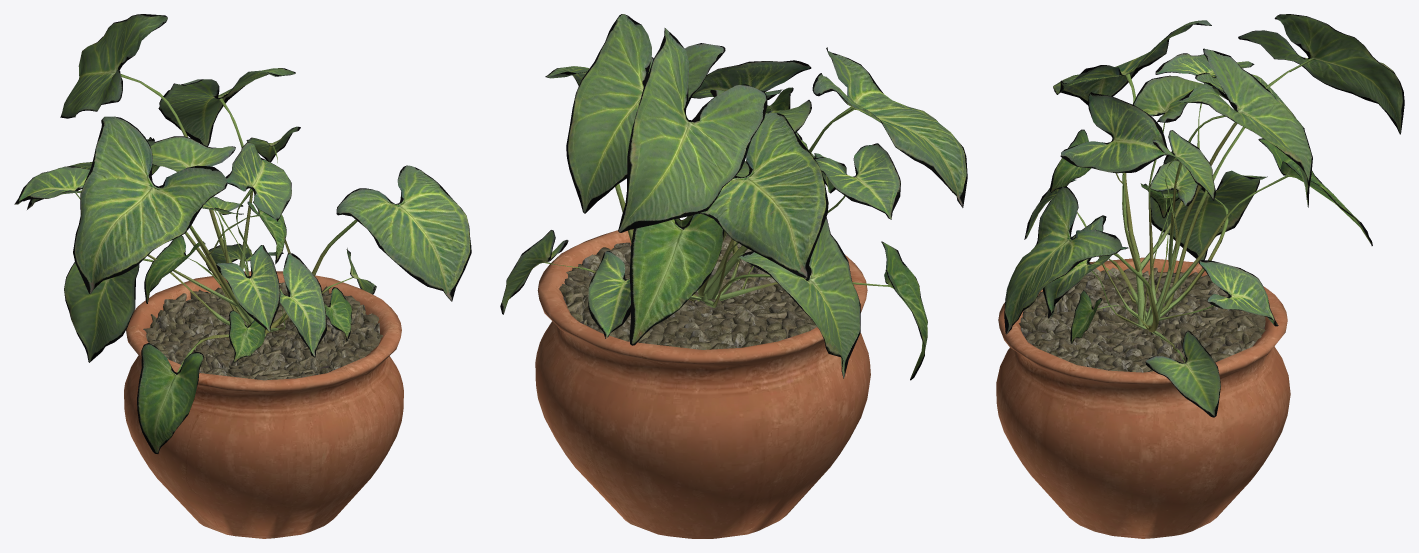
Rendered from prop-plant2-d28c0624.glb.
3 views of the same model, side by side, from view 1: azimuth 30°, elevation 25°; view 2: azimuth 150°, elevation 25°; view 3: azimuth 270°, elevation 25° (orthographic). The views are drawn at different scales.
Parts seen in each view (by area): view 1: potted_plant_02_leaves, potted_plant_02_pot, potted_plant_02_dirt; view 2: potted_plant_02_leaves, potted_plant_02_pot, potted_plant_02_dirt; view 3: potted_plant_02_leaves, potted_plant_02_pot, potted_plant_02_dirt.
Boxes of the visible parts, x1=… form: potted_plant_02_leaves: x1=14, y1=14, x2=471, y2=453; potted_plant_02_pot: x1=124, y1=271, x2=403, y2=538; potted_plant_02_dirt: x1=143, y1=282, x2=382, y2=380; potted_plant_02_leaves: x1=500, y1=14, x2=967, y2=380; potted_plant_02_pot: x1=535, y1=220, x2=870, y2=538; potted_plant_02_dirt: x1=559, y1=233, x2=816, y2=349; potted_plant_02_leaves: x1=1004, y1=14, x2=1404, y2=417; potted_plant_02_pot: x1=996, y1=257, x2=1290, y2=538; potted_plant_02_dirt: x1=1019, y1=267, x2=1265, y2=372.
Size of the model in its own units: 0.7009 by 0.8412 by 0.6561.
2 materials, 2 textured.
